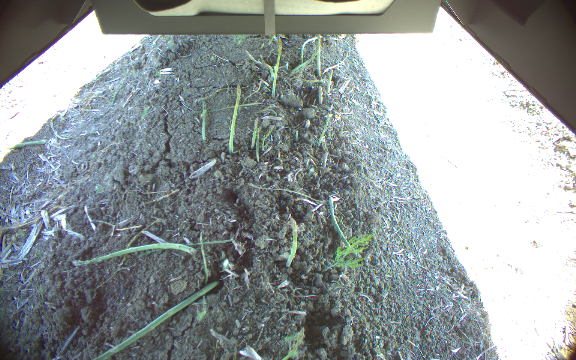aspa: (71, 242, 197, 267), (227, 83, 242, 155), (270, 36, 284, 98), (284, 217, 299, 270), (314, 35, 323, 77)
